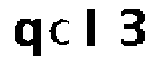3: (115, 6, 147, 50)
c: (49, 17, 72, 48)
l: (82, 6, 100, 49)
q: (10, 15, 48, 60)
